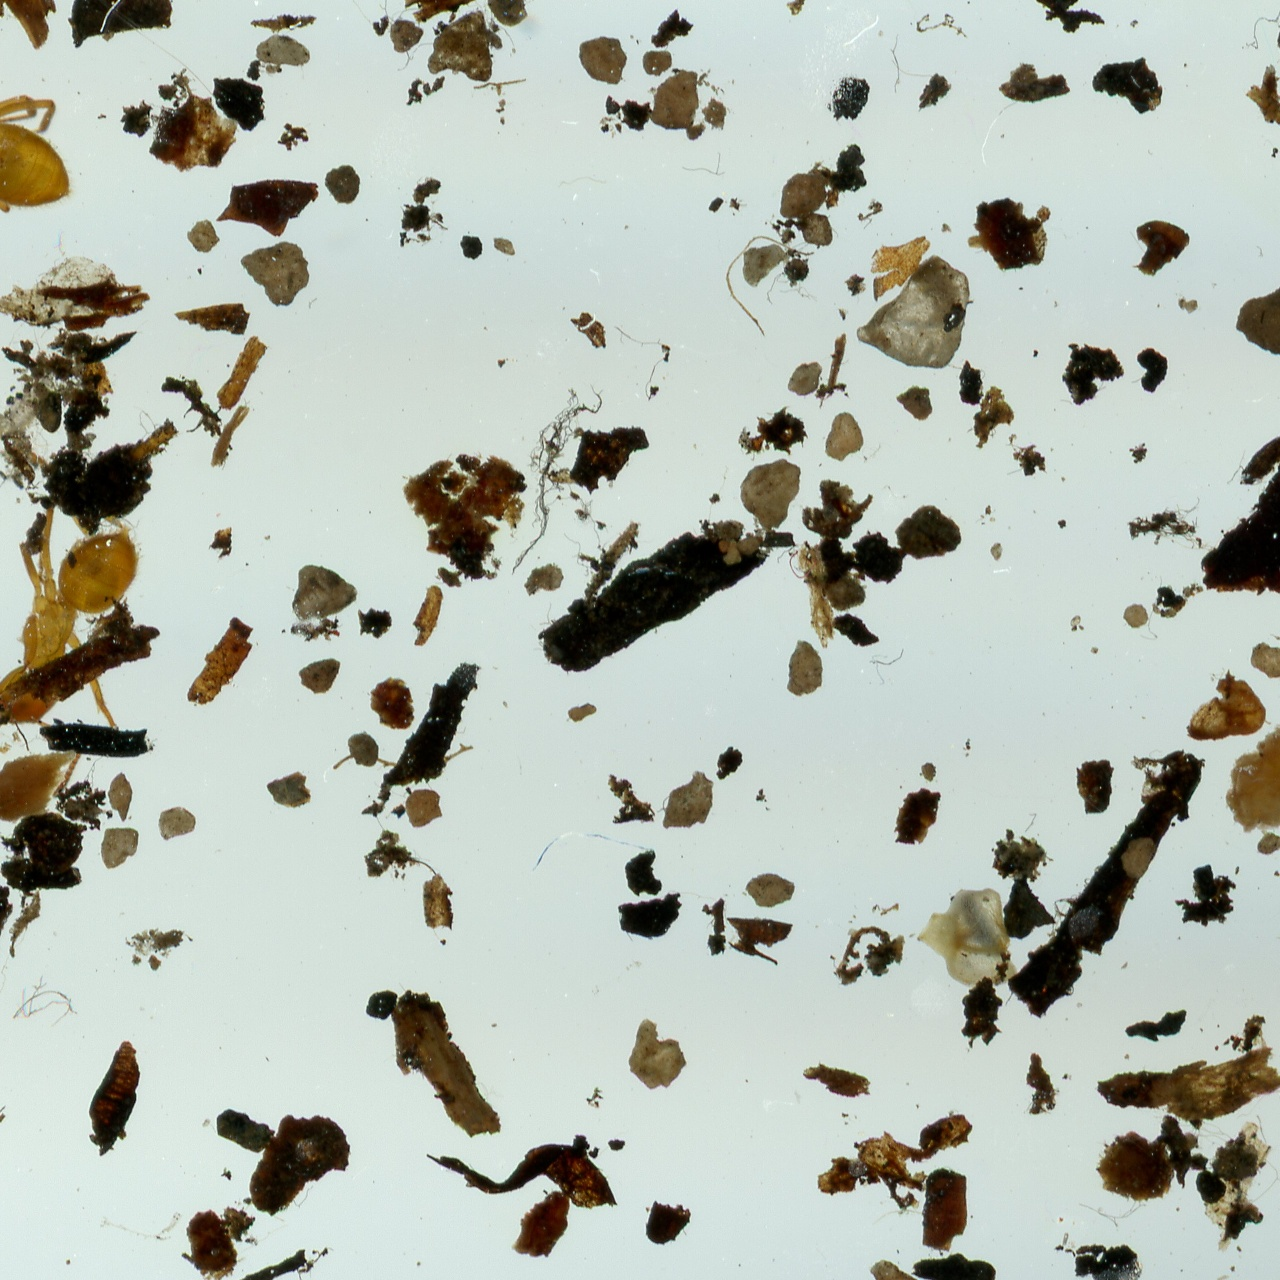arthropod: (0, 443, 148, 803), (0, 0, 143, 270)
